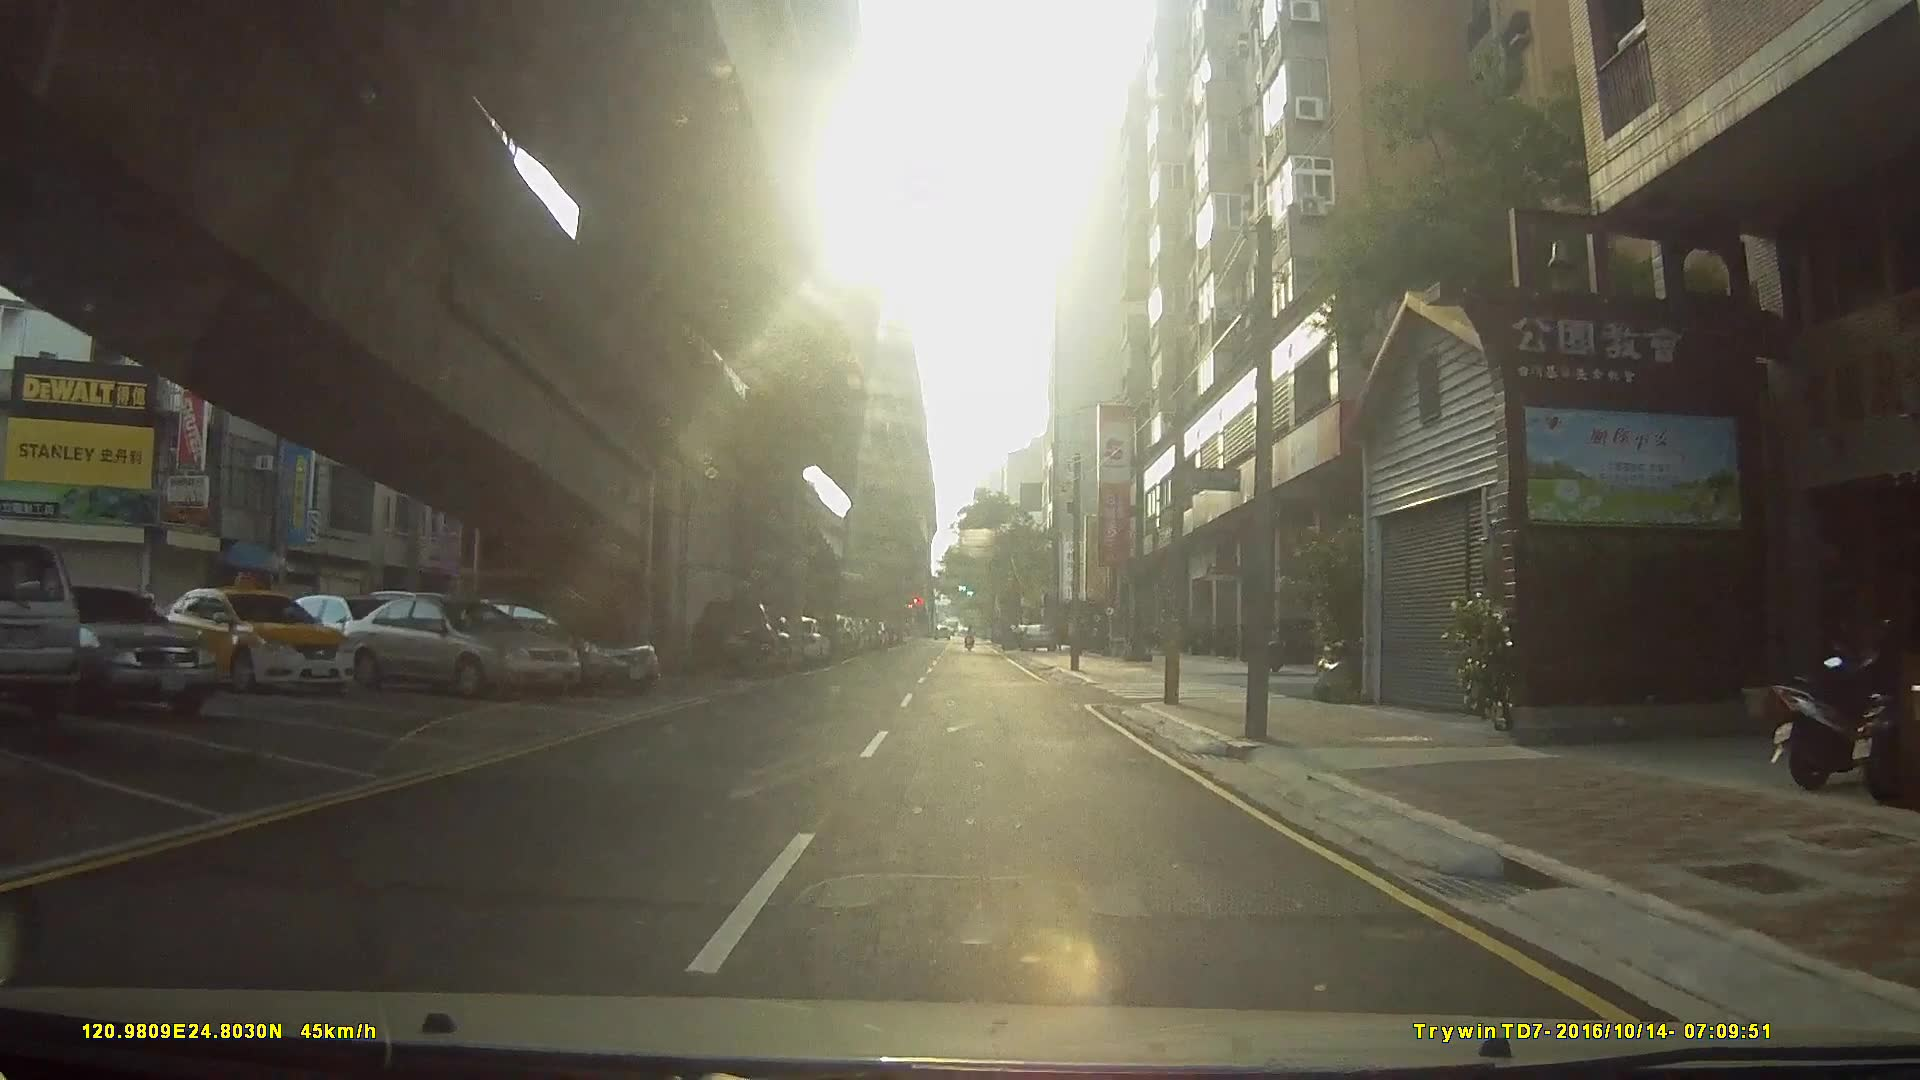vehicle: (12, 583, 222, 715), (332, 595, 579, 700), (419, 597, 659, 699), (156, 588, 349, 695), (0, 535, 80, 719), (688, 597, 783, 676)
